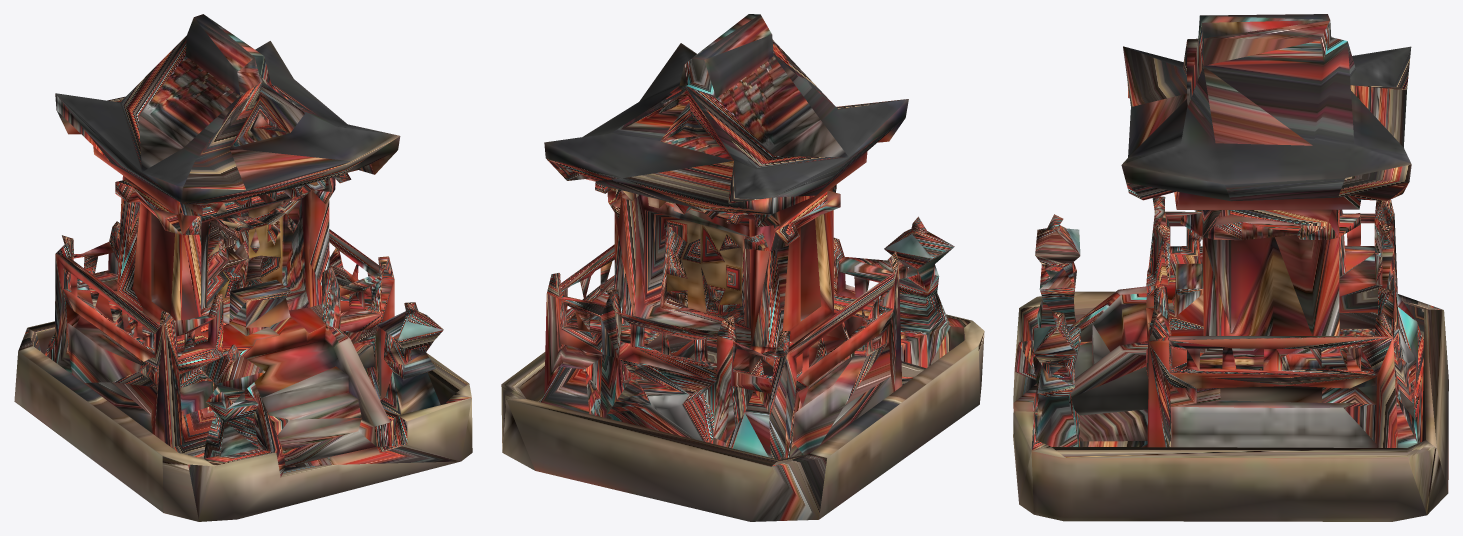
Rendered from Shrine.glb.
3 renders of one model, left to right at view 1: azimuth 30°, elevation 25°; view 2: azimuth 150°, elevation 25°; view 3: azimuth 270°, elevation 25°, orthographic. The views are drawn at different scales.
Parts seen in each view (by area): view 1: Shrine; view 2: Shrine; view 3: Shrine.
Boxes of the visible parts, bbox=[...] form: Shrine: bbox=[14, 14, 472, 521]; Shrine: bbox=[501, 14, 984, 521]; Shrine: bbox=[1013, 14, 1448, 521].
Bounding box in the file's own units: 1.68 × 1.99 × 1.86.
Materials: 1 (1 with a texture image).
